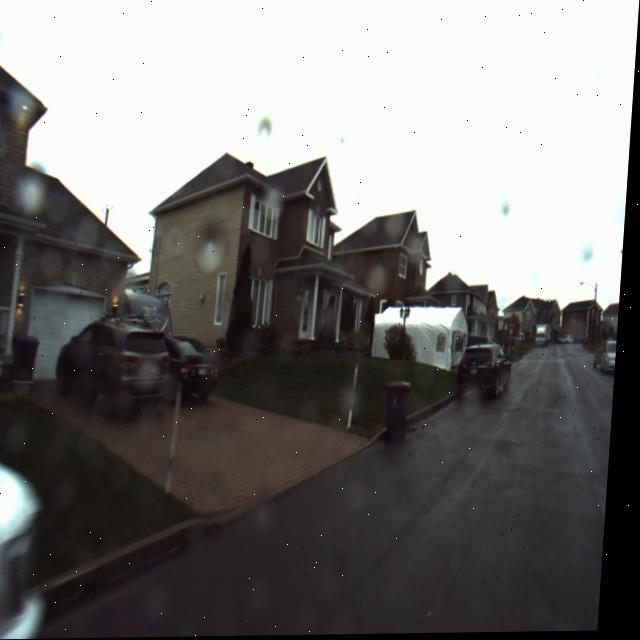car: (456, 324, 528, 417)
